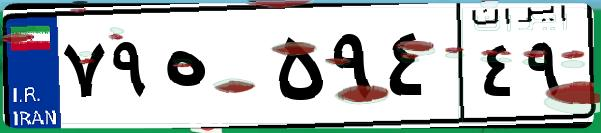4: (385, 28, 445, 110), (475, 38, 525, 113)
5: (270, 28, 330, 110)
7: (57, 26, 110, 100)
9: (330, 28, 385, 110), (525, 38, 570, 115), (110, 28, 158, 98)
ه: (158, 20, 270, 120)
